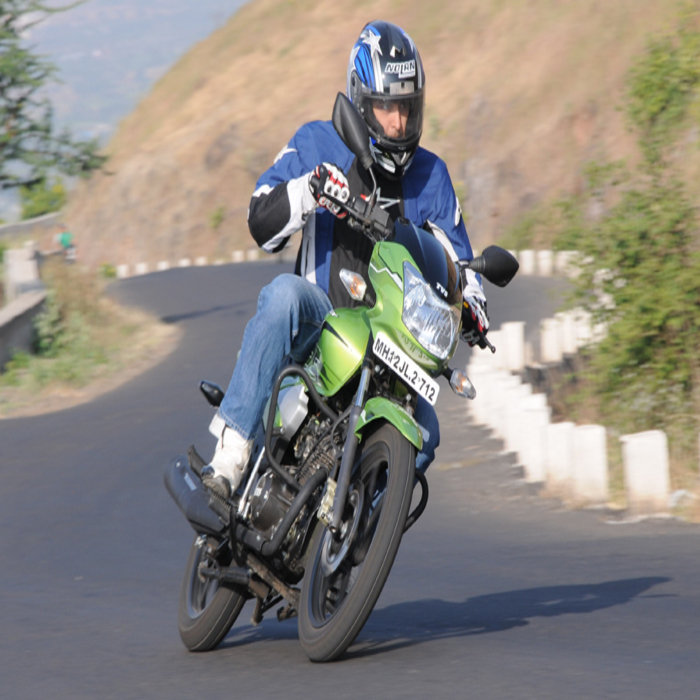h: (347, 19, 427, 178)
n: (369, 328, 442, 411)
